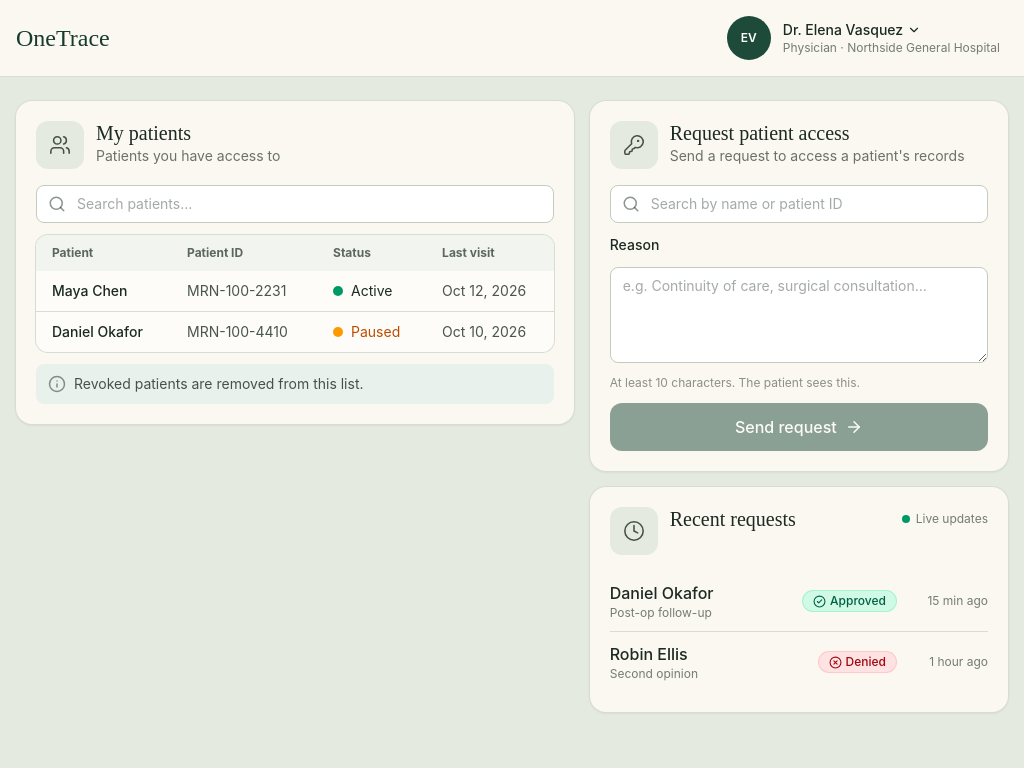
Scenario: Hospital workspace: my patients & requests (mockup page 3, screen 2) › looks a patient up, shows No active grant, gates the reason and sends the request
Expected: the heading "Request patient access" is shown, [670,122,850,144]
Expected: the text "Send a request to access a patient's records" is shown, [670,146,988,166]
Type "Rob" into the search field with placeholder "Search by name or patient ID" at (799, 204), box [610,185,988,223]
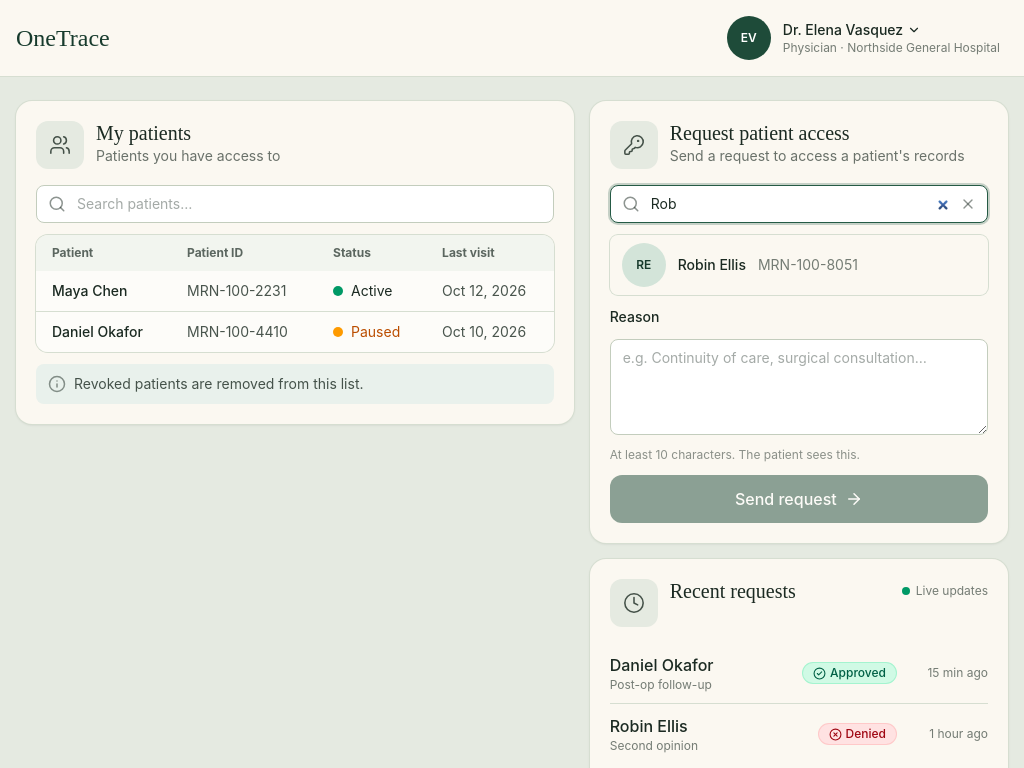
Click the button "RE Robin Ellis MRN-100-8051" at (799, 265), box [610,235,988,295]
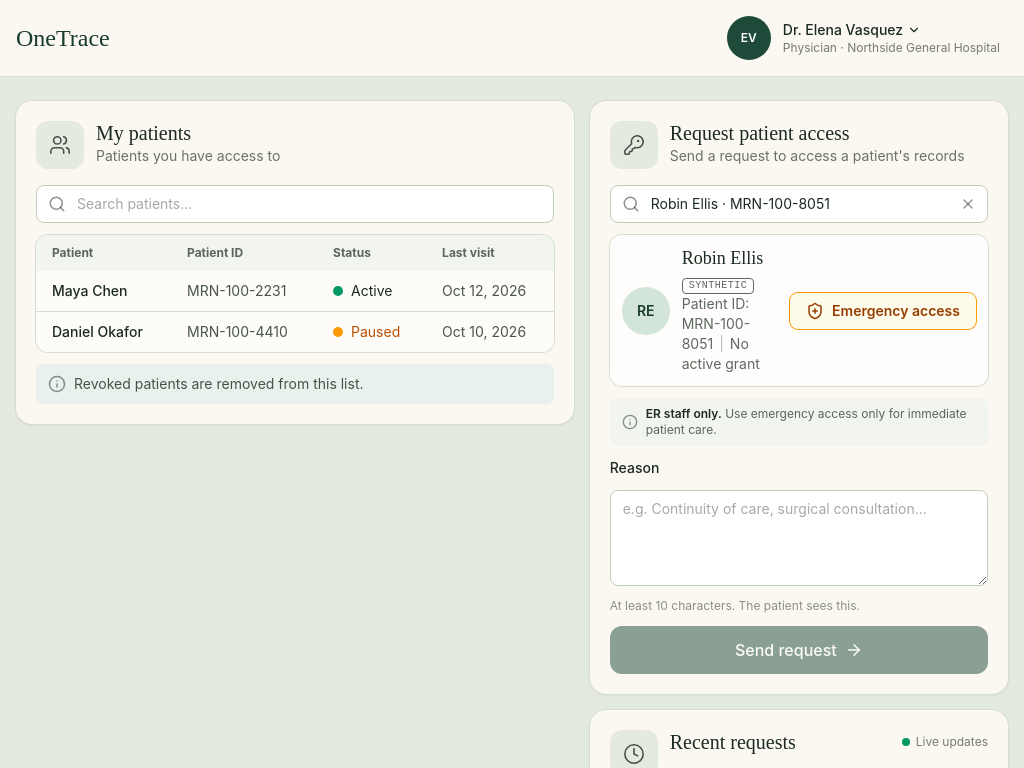
Now the text "Patient ID: MRN-100-8051|No active grant" is shown, box [682,295,760,372]
Now the text "Synthetic" is shown, box [682,278,754,294]
Now the button "Emergency access" is shown, box [790,292,976,328]
Type "Cardio" into the text box labelled "Reason" at (799, 538), box [610,490,988,586]
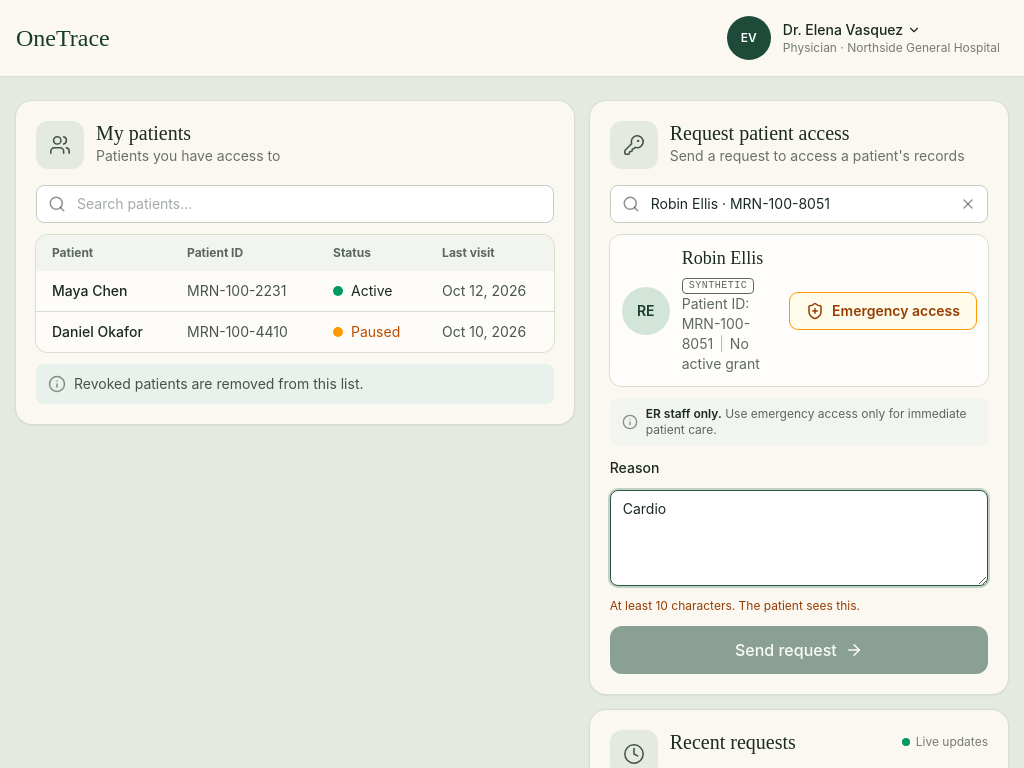
Expected: the button "Send request" is disabled, [610,626,988,674]
Type "logy consult next week" into the text box labelled "Reason" at (799, 538), box [610,490,988,586]
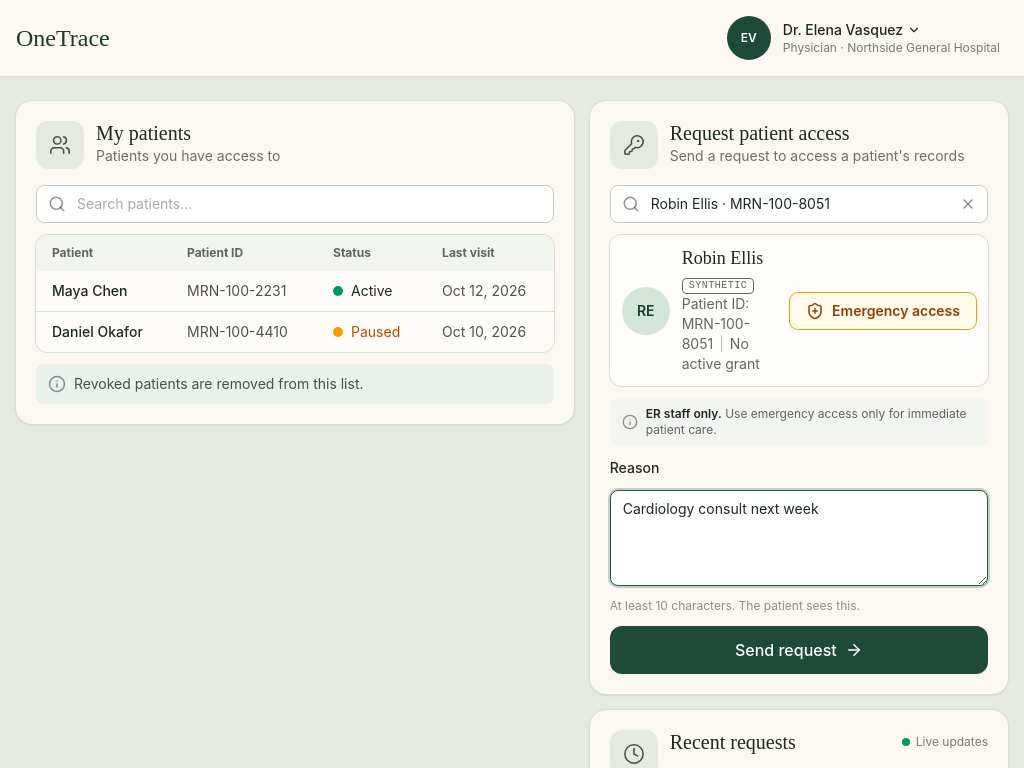
Now the button "Send request" is enabled
Click the button "Send request" at (799, 650), box [610,626,988,674]
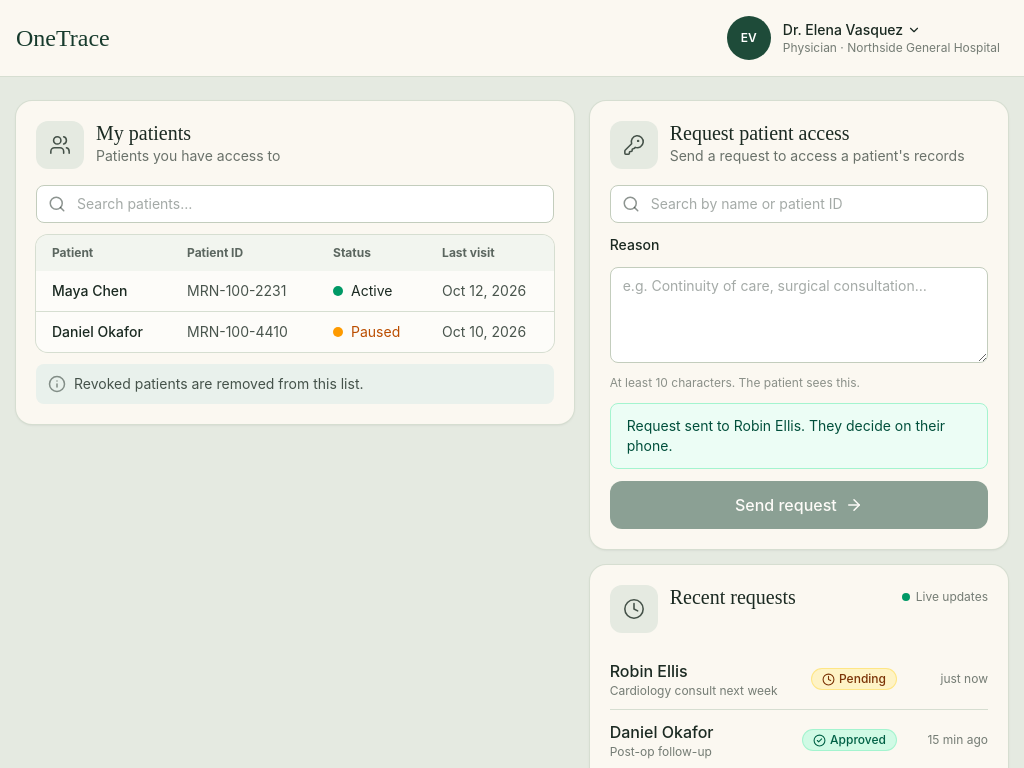
Now the text "Request sent to Robin Ellis. They decide on their phone." is shown, box [610,403,988,469]
Now the text "Pending" is shown, box [812,669,896,689]
Now the text "just now" is shown, box [940,671,988,686]
